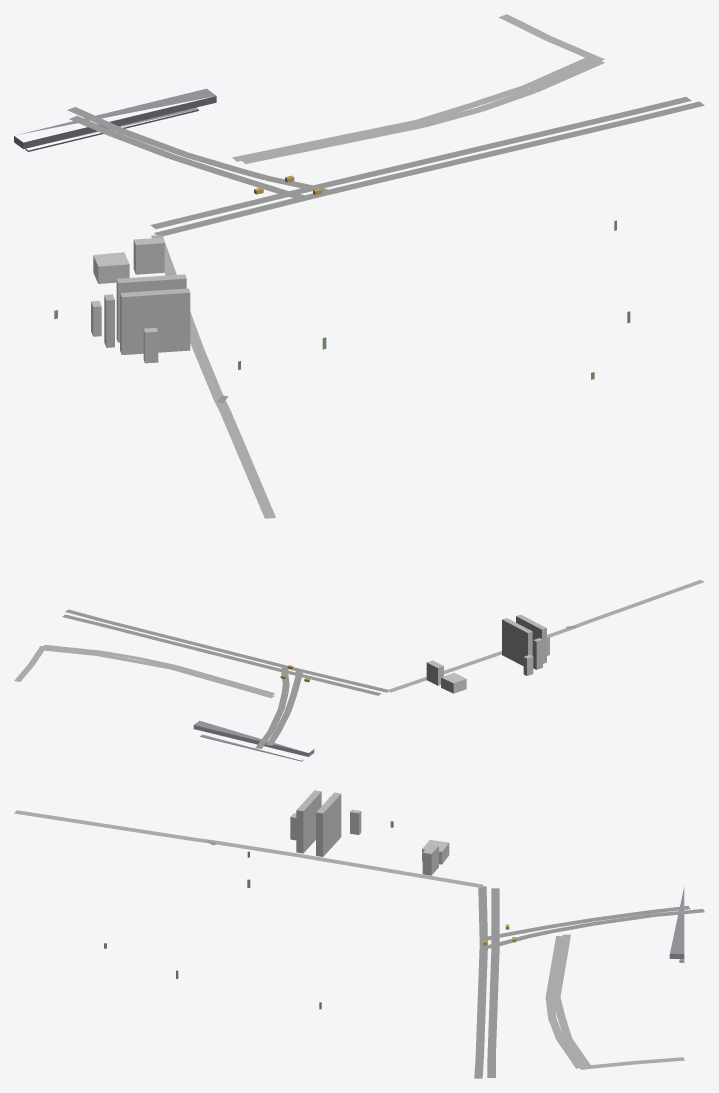
3 views of the same model, one above another, from view 1: azimuth 30°, elevation 25°; view 2: azimuth 150°, elevation 25°; view 3: azimuth 270°, elevation 25° (orthographic). The views are drawn at different scales.
Size of the model in its own units: 532 by 52.86 by 579.
